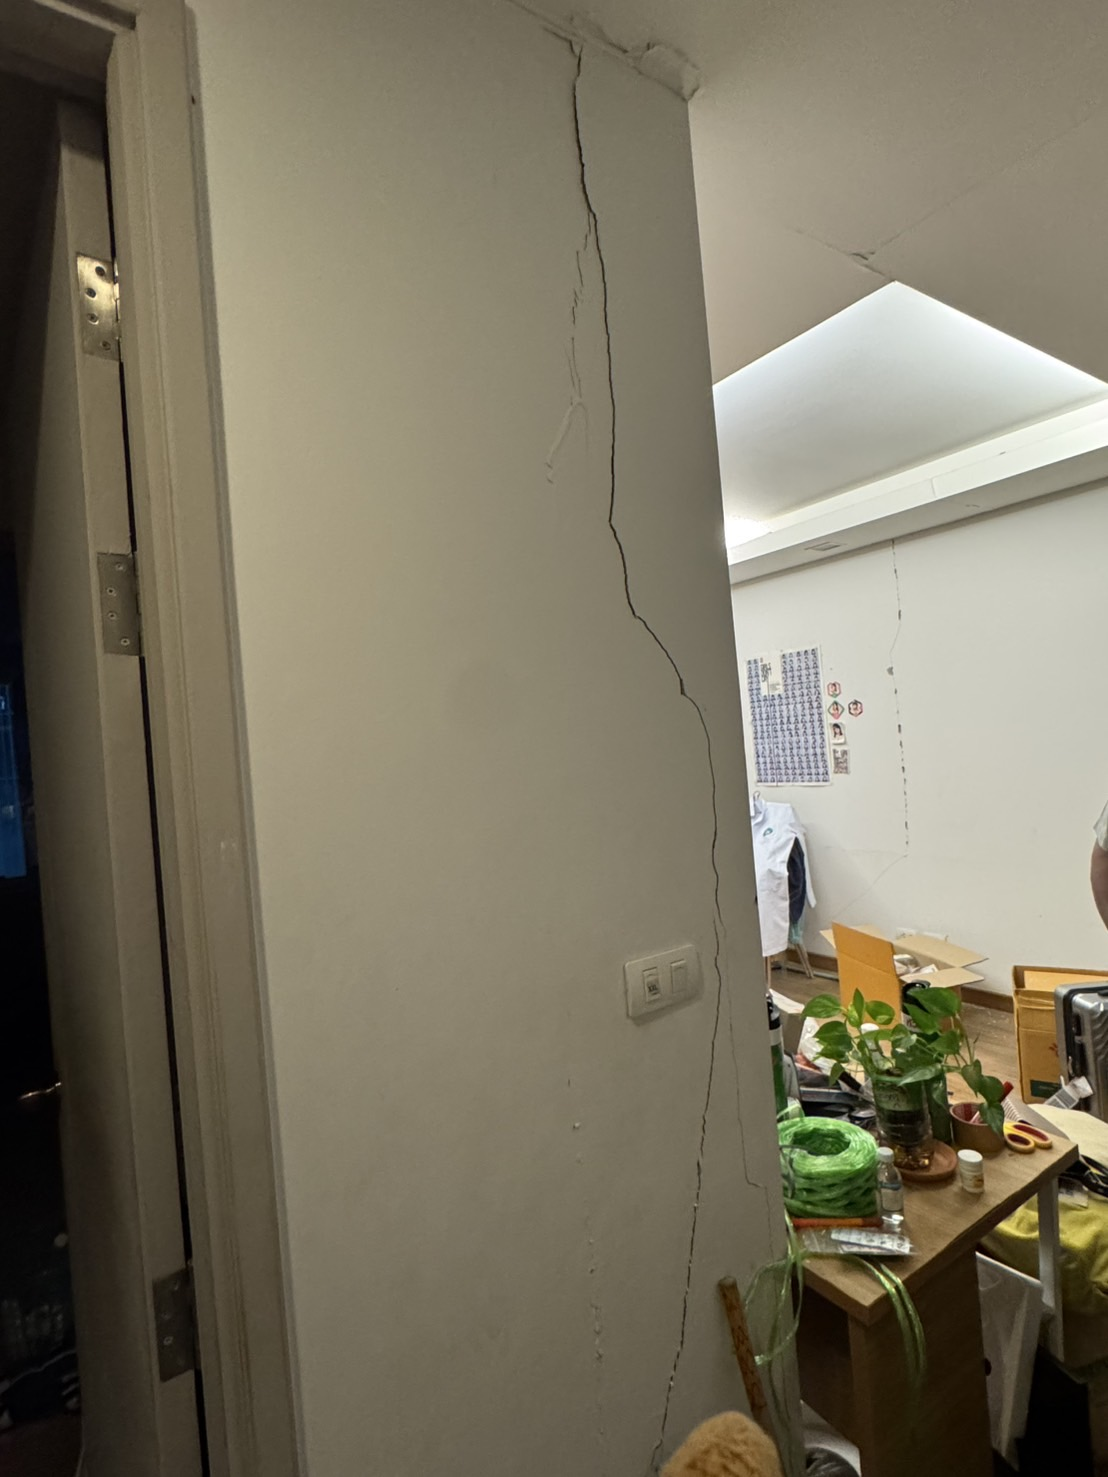Medium: (461, 47, 692, 779)
